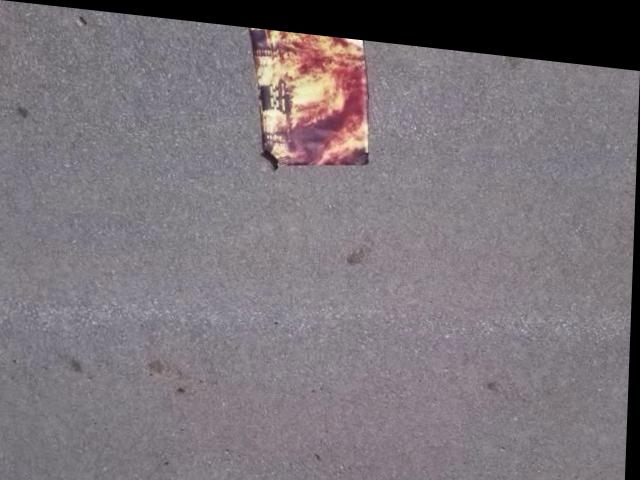fire-poster: (242, 23, 377, 173)
